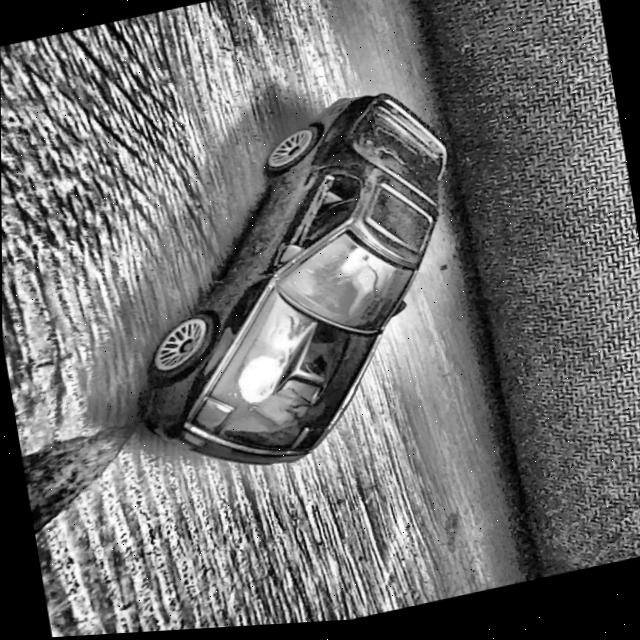car: (96, 80, 492, 497)
